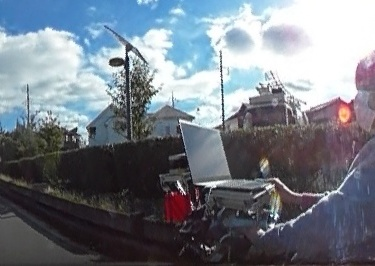person: (239, 42, 375, 260)
